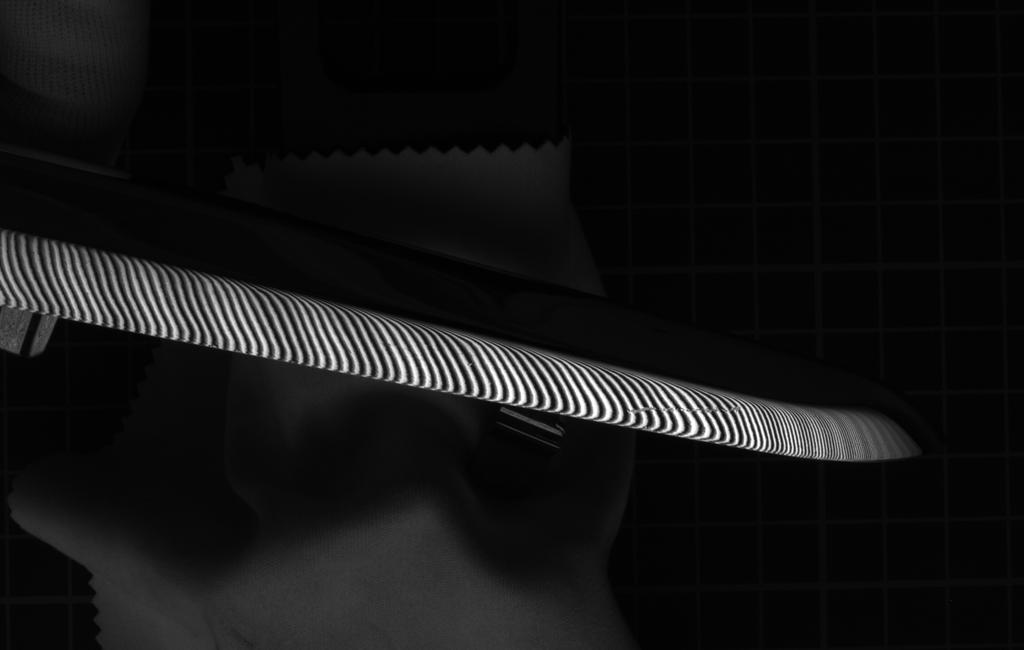Scratch: (618, 401, 753, 422)
